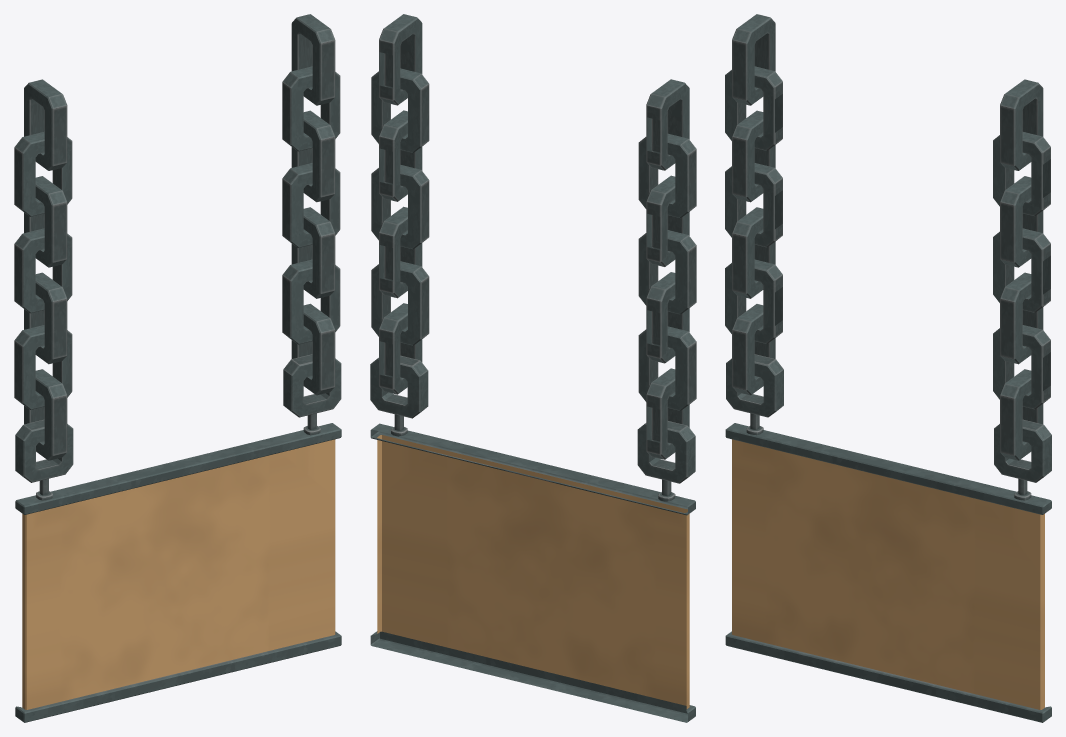
File: SM_SuccessSign.fbx
The picture shows the model from 3 angles, left to right: view 1: azimuth 30°, elevation 25°; view 2: azimuth 150°, elevation 25°; view 3: azimuth 330°, elevation 25°; orthographic projection.
Visible parts, largest first — view 1: Cube.014; view 2: Cube.014; view 3: Cube.014.
Boxes of the visible parts, <box> form: Cube.014: <box>14,14,341,722</box>; Cube.014: <box>370,14,696,722</box>; Cube.014: <box>725,14,1051,722</box>.
Size of the model in its own units: 96.78 by 182 by 15.21.
